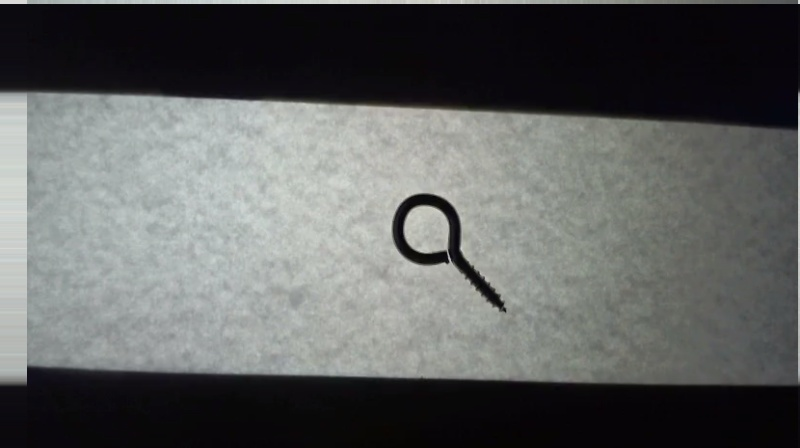O001: (387, 186, 513, 315)
